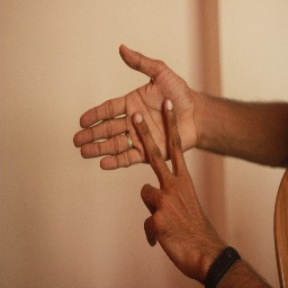N: (69, 43, 216, 222)
